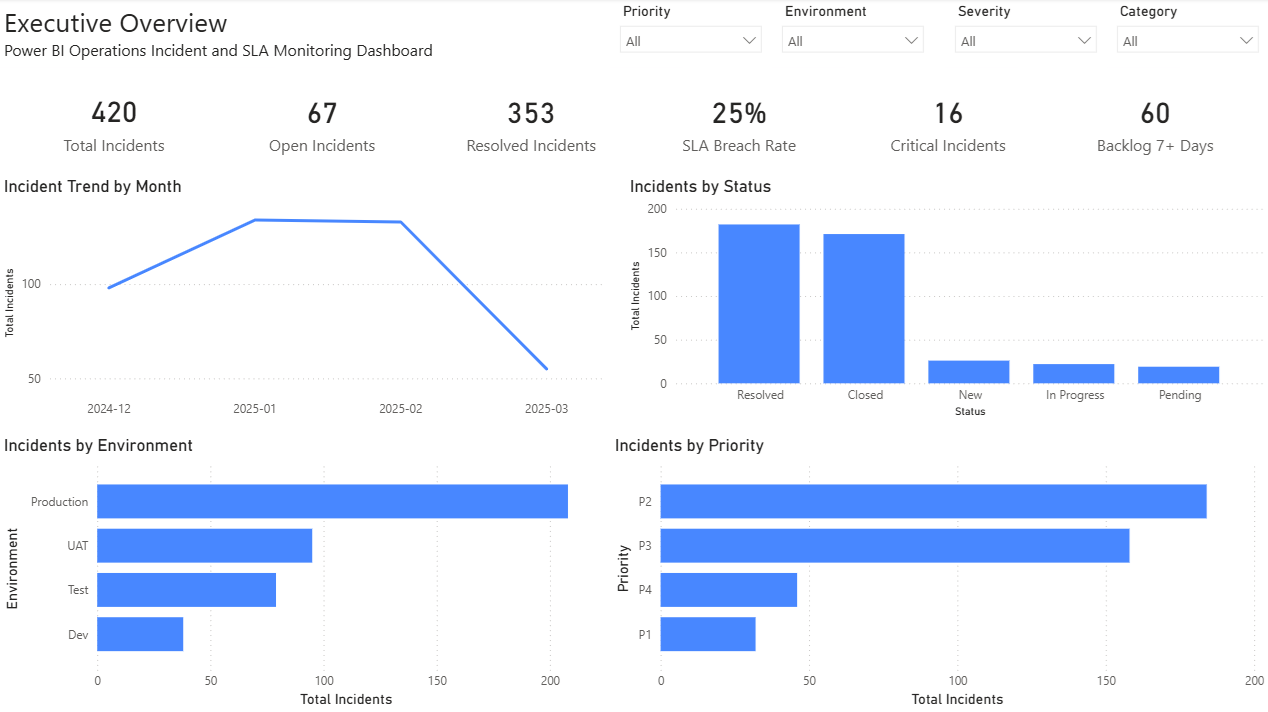

Layout of this report page (visuals, bound fields, positions):
{"tool":"powerbi","page":{"name":"Executive Overview","canvas":[1280,720],"ordinal":0},"visuals":[{"type":"lineChart","title":"Incident Trend by Month","fields":{"Category":["DimDate.YearMonth"],"Y":["Incidents.Total Incidents"]},"box":[0,179.4,615.8,253],"z":0},{"type":"clusteredColumnChart","title":"Incidents by Status","fields":{"Category":["Incidents.Status"],"Y":["Incidents.Total Incidents"]},"box":[630.9,179.4,649.1,247.9],"z":1000},{"type":"card","fields":{"Values":["Incidents.Total Incidents"]},"box":[0.6,69.5,229.8,108.9],"z":2000},{"type":"card","fields":{"Values":["Incidents.Open Incidents"]},"box":[210.9,69.5,230,109],"z":3000},{"type":"card","fields":{"Values":["Incidents.Resolved Incidents"]},"box":[421,69.5,230,109],"z":4000},{"type":"card","fields":{"Values":["Incidents.SLA Breach Rate"]},"box":[631.1,69.5,230,109],"z":5000},{"type":"card","fields":{"Values":["Incidents.Critical Incident Count"]},"box":[841.2,69.5,230,109],"z":6000},{"type":"card","fields":{"Values":["Incidents.Backlog Over 7 Days"]},"box":[1050.6,69.5,230,109],"z":7000},{"type":"clusteredBarChart","title":"Incidents by Environment","fields":{"Category":["Incidents.Environment"],"Y":["Incidents.Total Incidents"]},"box":[0,440.4,615.8,279.2],"z":8000},{"type":"barChart","title":"Incidents by Priority","fields":{"Y":["Incidents.Total Incidents"],"Category":["Incidents.Priority"]},"box":[615.8,440.4,664.2,279.2],"z":9000},{"type":"slicer","fields":{"Values":["Incidents.Environment"]},"box":[660.2,0,205.6,69.5],"z":10000},{"type":"slicer","fields":{"Values":["Incidents.Priority"]},"box":[454.6,0,205.6,69.5],"z":11000},{"type":"slicer","fields":{"Values":["Incidents.Severity"]},"box":[865.8,0,205.6,69.5],"z":12000},{"type":"slicer","fields":{"Values":["Incidents.Category"]},"box":[1074.4,0,205.6,69.5],"z":13000},{"type":"textbox","box":[0,0,452.5,69.5],"z":14000}]}

Visuals, with their boxes in screenshot pixels (x1, y1, x2, y2), scaled from the page's 1280x720 canvas onto the 1268x712 screenshot:
"Incident Trend by Month" lineChart: rect(0, 177, 610, 428)
"Incidents by Status" clusteredColumnChart: rect(625, 177, 1267, 423)
card - Incidents.Total Incidents: rect(1, 69, 228, 176)
card - Incidents.Open Incidents: rect(209, 69, 437, 177)
card - Incidents.Resolved Incidents: rect(417, 69, 645, 177)
card - Incidents.SLA Breach Rate: rect(625, 69, 853, 177)
card - Incidents.Critical Incident Count: rect(833, 69, 1061, 177)
card - Incidents.Backlog Over 7 Days: rect(1041, 69, 1267, 177)
"Incidents by Environment" clusteredBarChart: rect(0, 436, 610, 711)
"Incidents by Priority" barChart: rect(610, 436, 1267, 711)
slicer - Incidents.Environment: rect(654, 0, 858, 69)
slicer - Incidents.Priority: rect(450, 0, 654, 69)
slicer - Incidents.Severity: rect(858, 0, 1061, 69)
slicer - Incidents.Category: rect(1064, 0, 1267, 69)
textbox: rect(0, 0, 448, 69)
